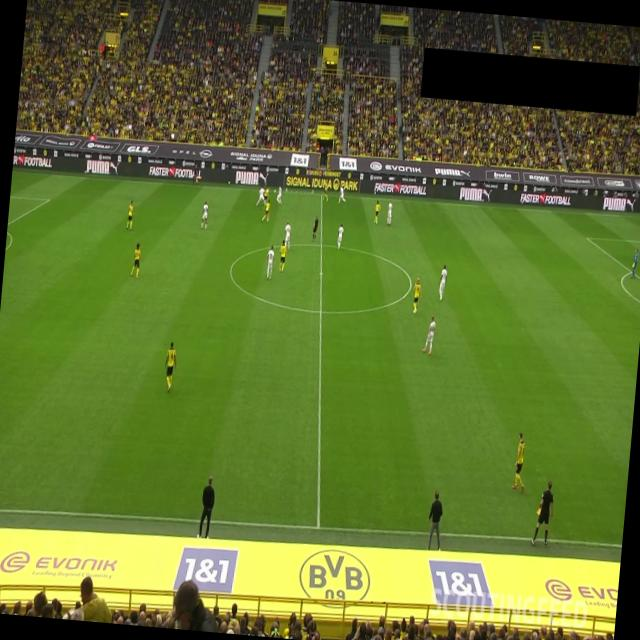ball: (272, 188, 276, 194)
goalkeeper: (630, 247, 638, 279)
player: (510, 431, 530, 493), (162, 341, 179, 393), (421, 314, 436, 354), (130, 241, 142, 277), (264, 244, 276, 280), (411, 276, 422, 315), (437, 263, 448, 302), (277, 240, 287, 272), (282, 220, 292, 250), (200, 200, 210, 229), (255, 185, 267, 208), (261, 196, 271, 222), (126, 200, 134, 230), (336, 222, 344, 250), (321, 178, 330, 202), (385, 200, 393, 226), (373, 199, 381, 224), (338, 182, 347, 204), (262, 185, 270, 208), (275, 186, 283, 204)
referee: (530, 477, 556, 548), (311, 214, 319, 242), (192, 162, 200, 184)
